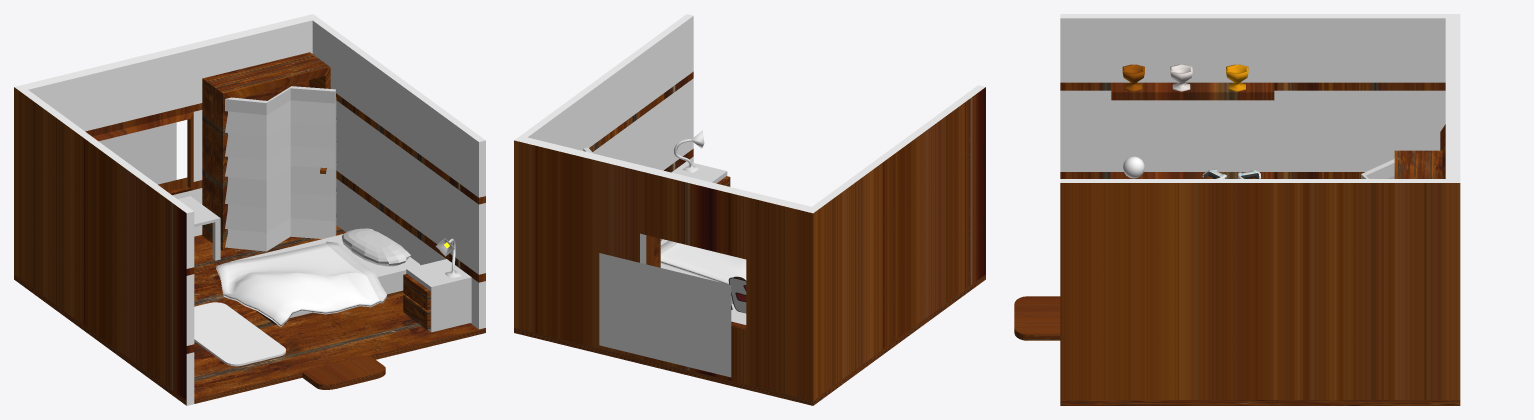
File: habitacion.glb
3 views of the same model, side by side, from view 1: azimuth 30°, elevation 25°; view 2: azimuth 150°, elevation 25°; view 3: azimuth 270°, elevation 25° (orthographic). The views are drawn at different scales.
Visible parts, largest first — view 1: Cube, Cubo.005, Plano subdividido, Cubo.004, Cubo.003, Plano, Cubo.008, Esfera.001, Cubo.006; view 2: Cube, Plano, Plano subdividido, Cubo.003, mochila boceto; view 3: Cube, Cubo.004, Cilindro.002, Cilindro.003, Cilindro.001.
Boxes of the visible parts, <box> form: Cube: <box>14,14,485,405</box>; Cubo.005: <box>225,86,336,251</box>; Plano subdividido: <box>216,241,386,326</box>; Cubo.004: <box>202,52,330,250</box>; Cubo.003: <box>403,259,471,332</box>; Plano: <box>99,122,176,184</box>; Cubo.008: <box>230,228,419,324</box>; Esfera.001: <box>341,228,410,266</box>; Cubo.006: <box>178,196,220,260</box>; Cube: <box>514,14,985,405</box>; Plano: <box>599,253,731,377</box>; Plano subdividido: <box>660,240,746,284</box>; Cubo.003: <box>671,161,730,186</box>; mochila boceto: <box>728,276,746,313</box>; Cube: <box>1014,14,1460,405</box>; Cubo.004: <box>1394,150,1442,178</box>; Cilindro.002: <box>1170,64,1192,91</box>; Cilindro.003: <box>1122,64,1144,91</box>; Cilindro.001: <box>1226,64,1248,91</box>.
Size of the model in its own units: 12.91 by 8 by 16.31.
Materials: 18 (3 with a texture image).
